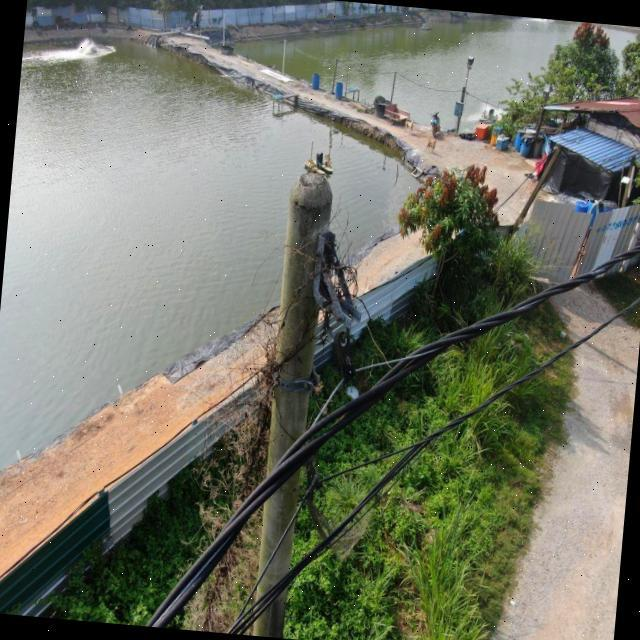critical vegetation: (171, 175, 377, 634)
